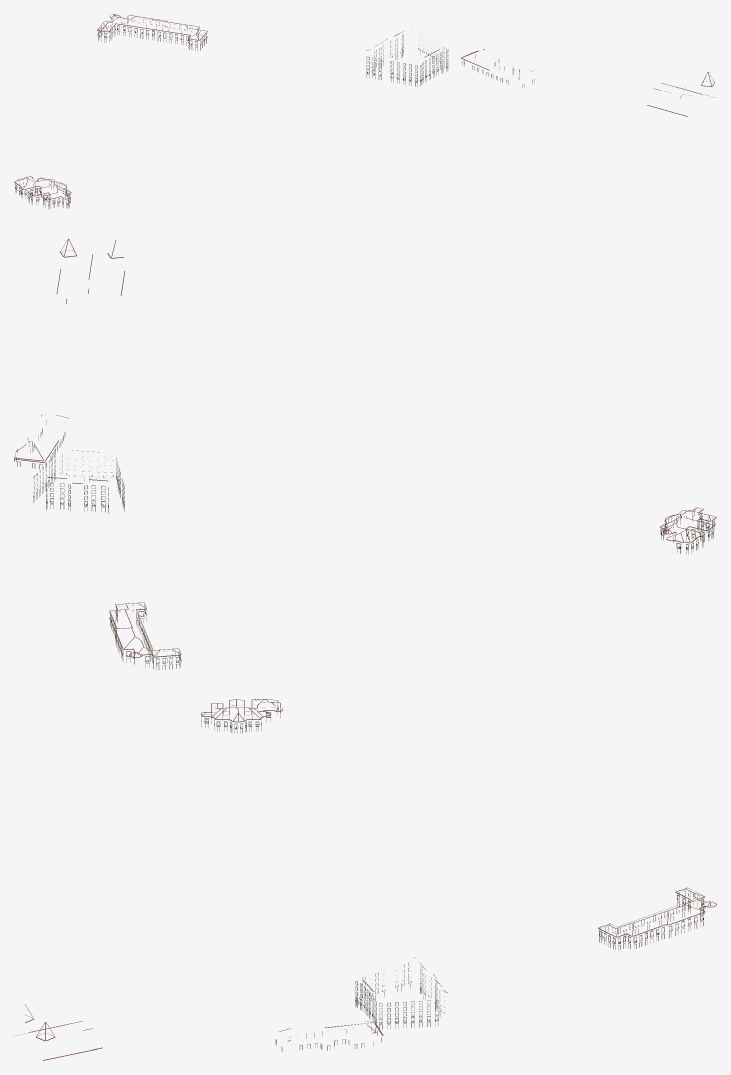
The picture shows the model from 3 angles, top to bottom: view 1: azimuth 30°, elevation 25°; view 2: azimuth 150°, elevation 25°; view 3: azimuth 270°, elevation 25°; orthographic projection. The views are drawn at different scales.
Parts seen in each view (by area): view 1: detail; view 2: detail; view 3: detail.
Part boxes in pixels (x1,y1,x2,y2): detail: (14,14,715,209); detail: (14,238,716,670); detail: (14,699,716,1060).
Size of the model in its own units: 419 by 48.74 by 339.
